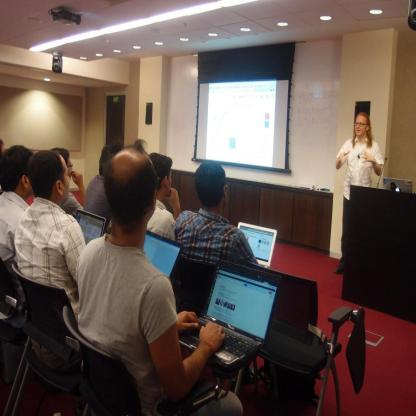board: (186, 265, 294, 379), (142, 229, 184, 280), (237, 221, 277, 270), (75, 207, 105, 245), (383, 178, 412, 192)
